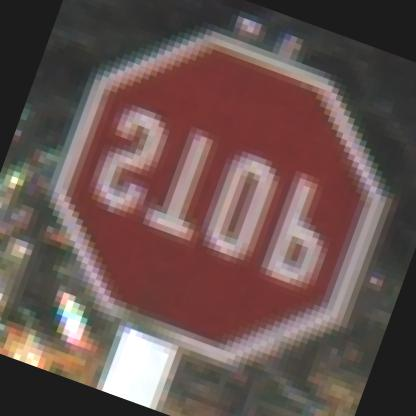stop: (21, 0, 415, 402)
